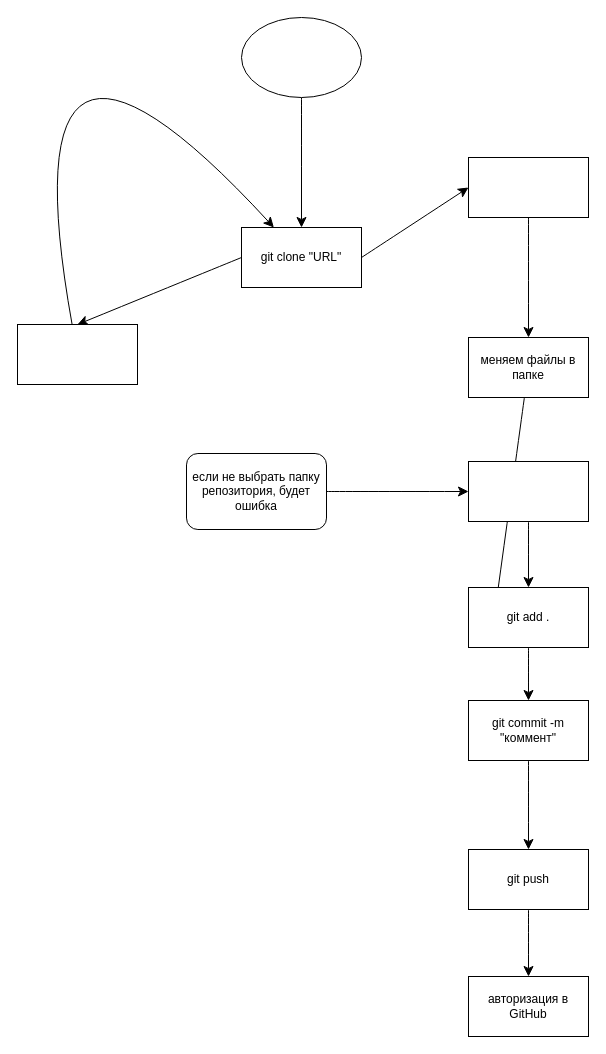
Image size: 606x1054. Some labels were removed from this diagram. Each missing label, with the box of its shape:
cd "Название папки": (468, 460, 588, 522)
git: (240, 16, 362, 98)
right URL: (468, 156, 588, 218)
wrong URL: (16, 324, 138, 384)
